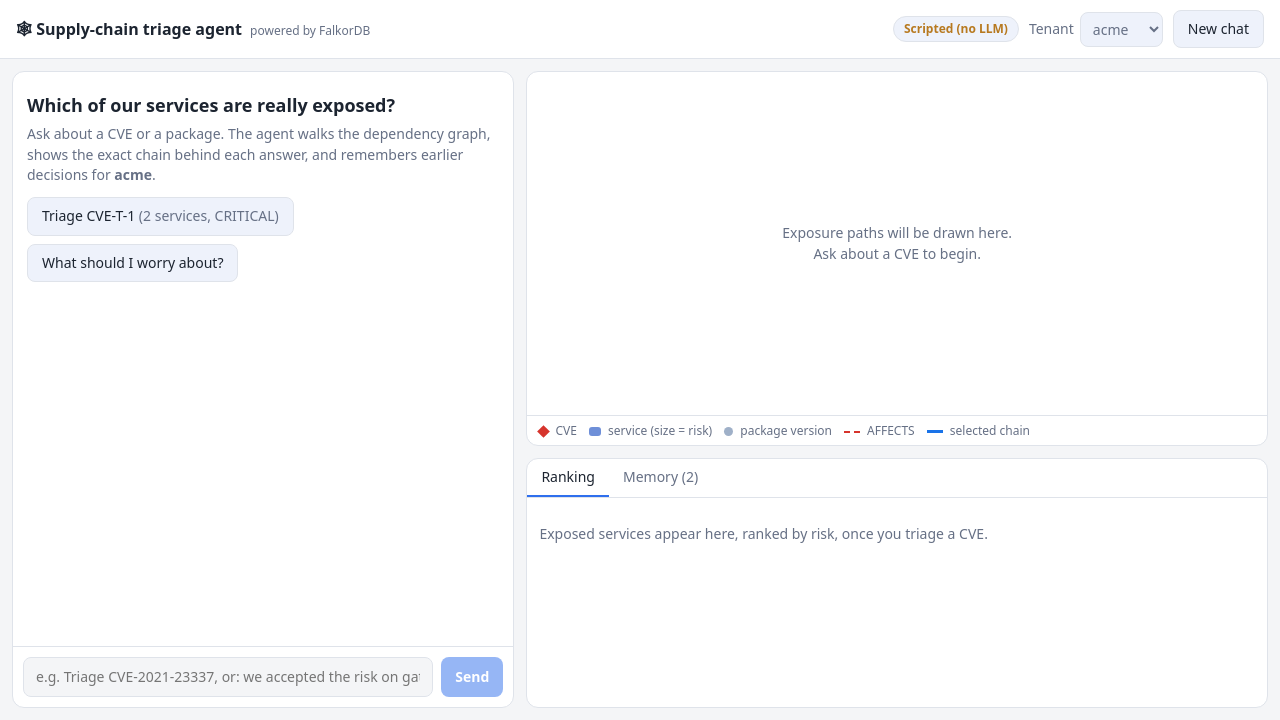
Scenario: triage UI › switching tenant clears the chat and graph and reloads that tenant's memory
Click the button "Triage CVE-T-1 (2 services, CRITICAL)": x=160, y=216 27,197 -> 294,236
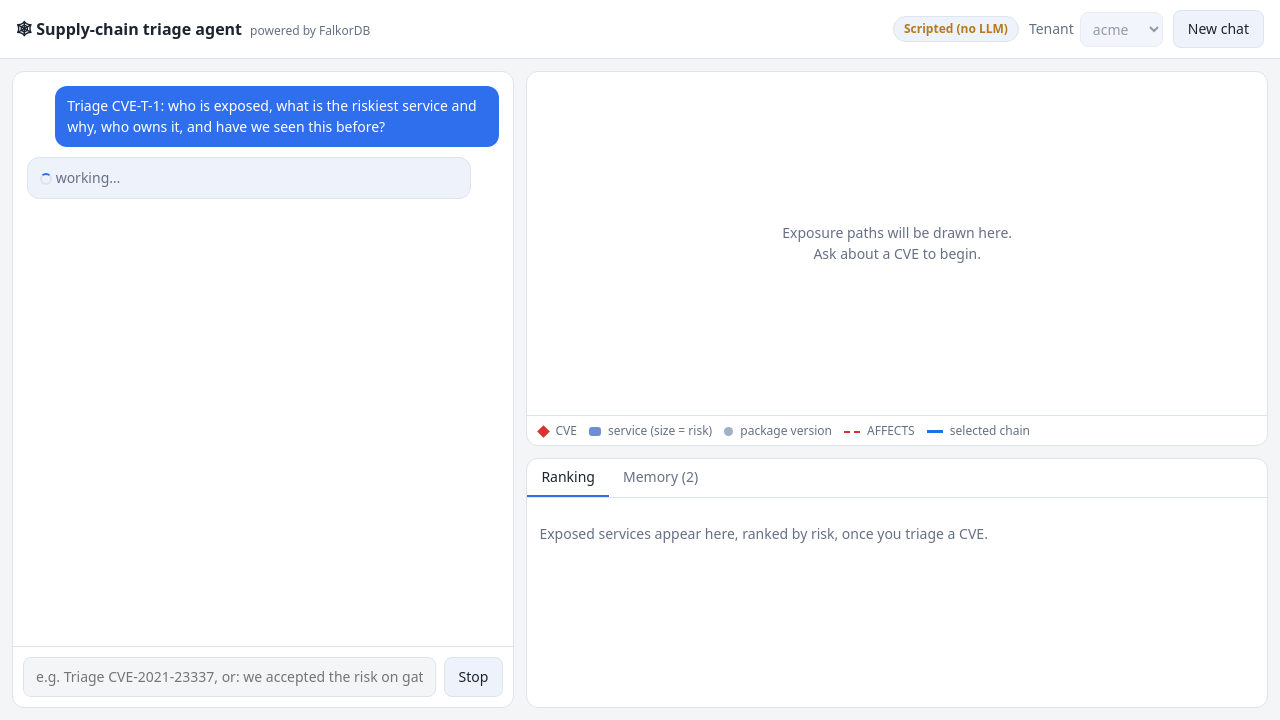
Expected: the text "is the riskiest service" is shown, 67,96 -> 477,136
Select "globex" in the dropdown labelled "Tenant": x=1121, y=29 1080,12 -> 1163,47
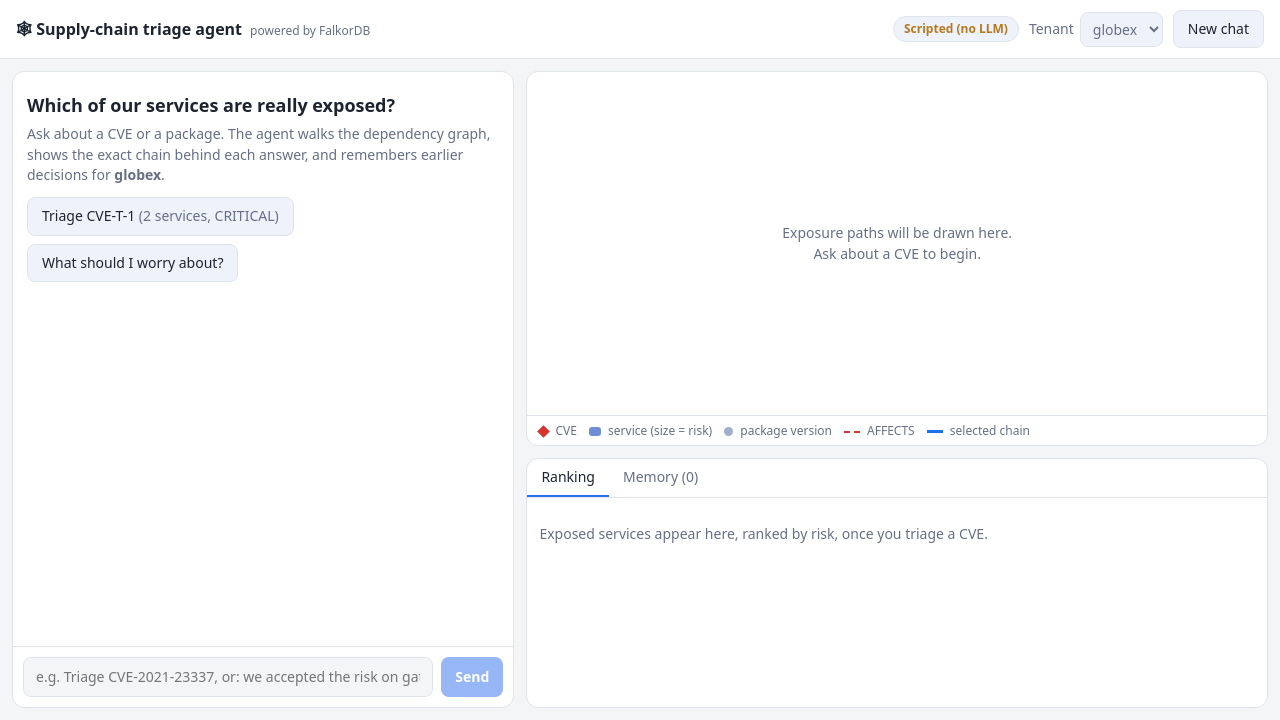
Expected: the heading "Which of our services are really exposed?" is shown, 27,93 -> 395,117
Expected: the text "is the riskiest service" is gone
Click the tab "Memory (0)": x=661, y=478 609,459 -> 712,497
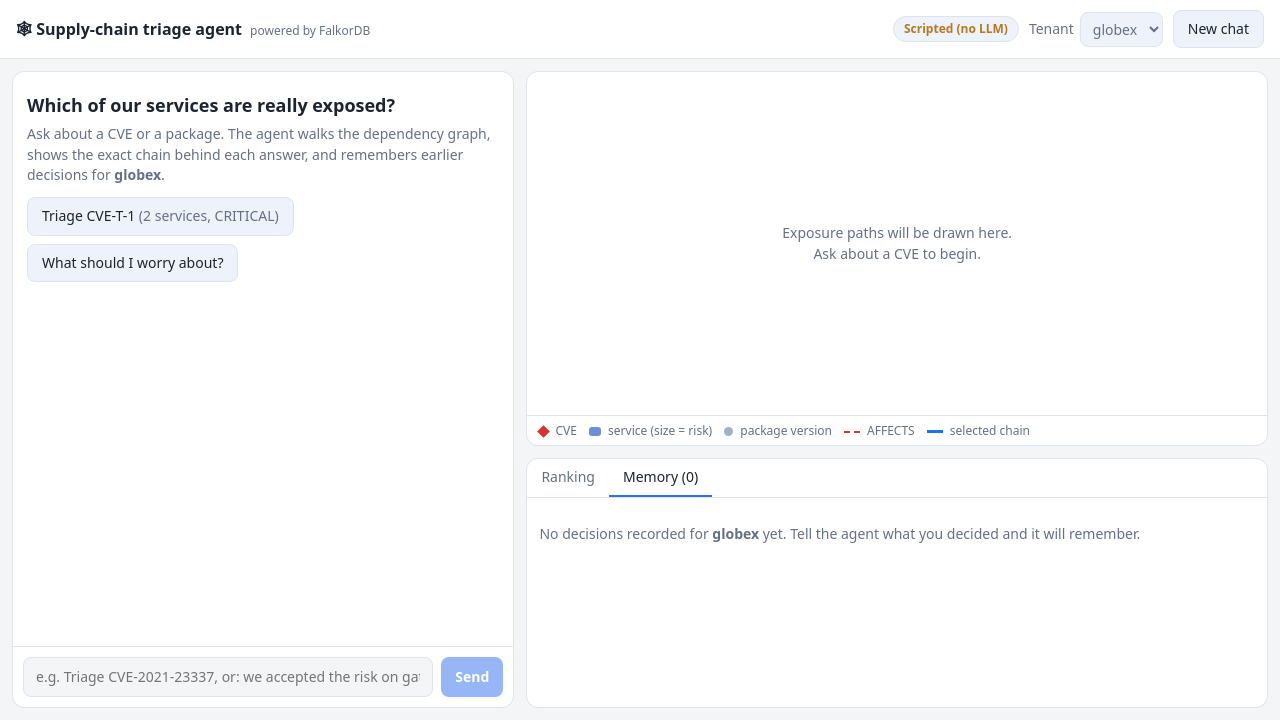
Expected: the text "No decisions recorded for" is shown, 539,524 -> 712,543
Click the button "Triage CVE-T-1 (2 services, CRITICAL)": x=160, y=216 27,197 -> 294,236
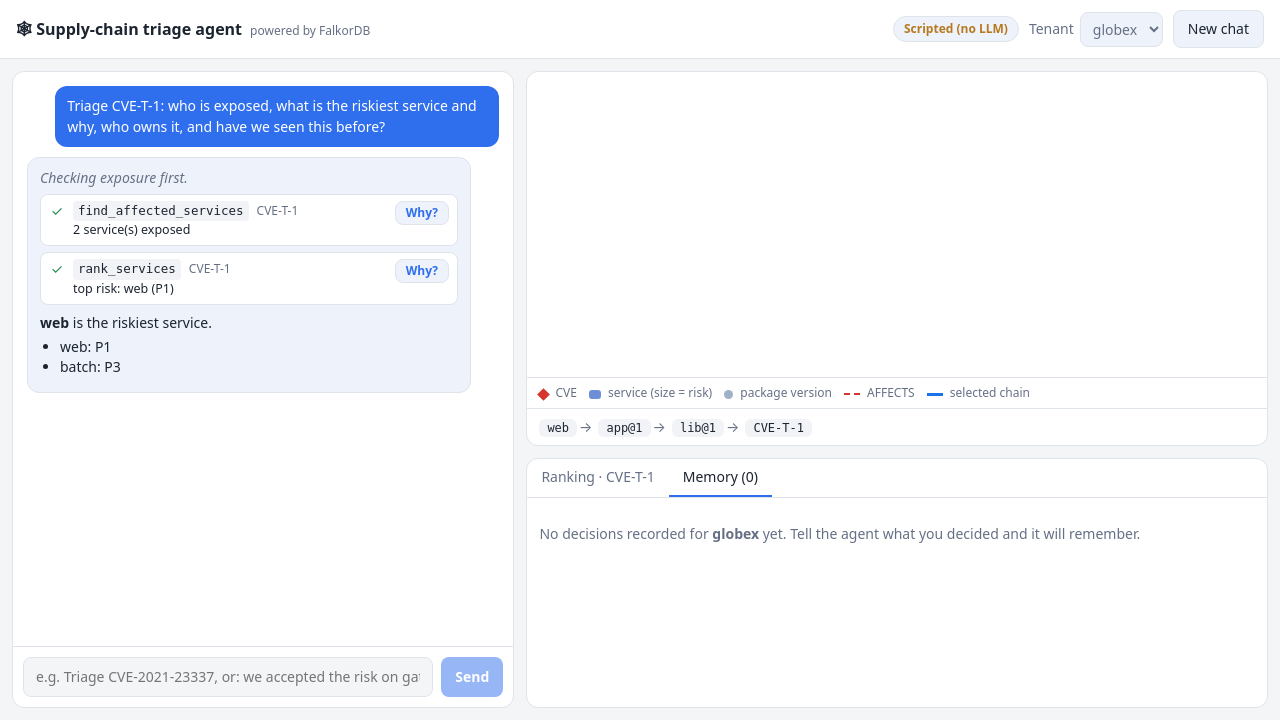
Expected: the text "is the riskiest service" is shown, 67,96 -> 477,136
